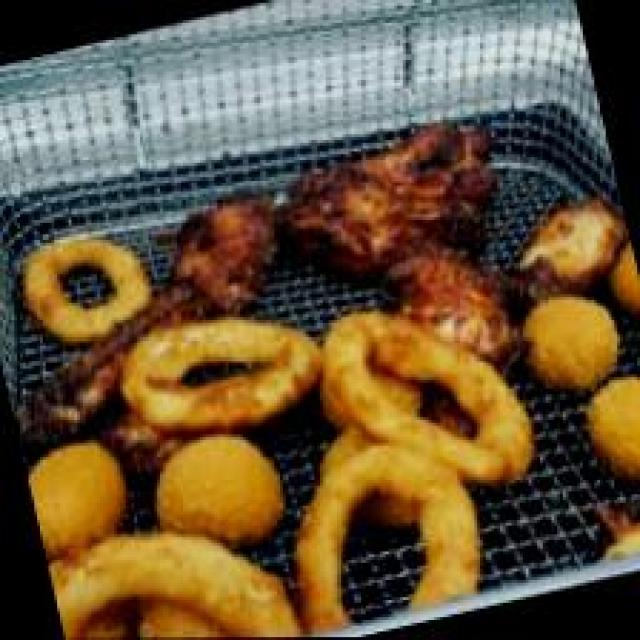Chicken Wings: (138, 111, 516, 323)
Onion Rings: (14, 248, 542, 640), (0, 205, 171, 360)
